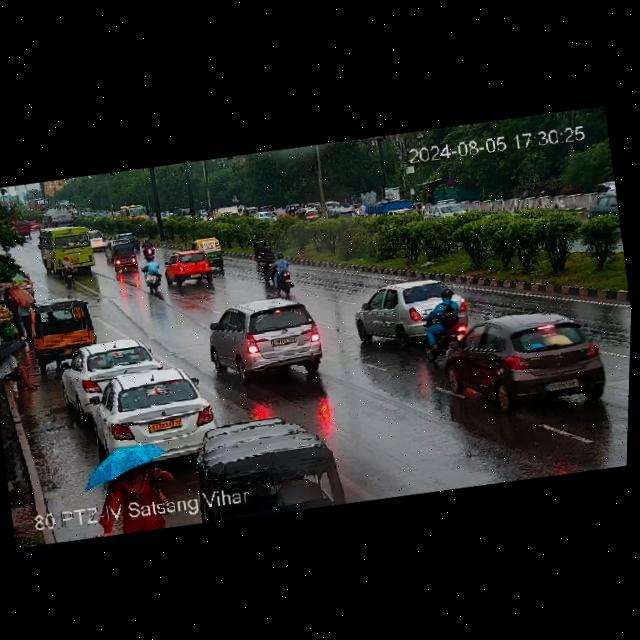bus: (36, 215, 105, 280), (117, 198, 149, 222), (53, 193, 80, 217)
car: (436, 296, 623, 424), (196, 290, 331, 401), (336, 257, 480, 354), (193, 407, 337, 493), (93, 366, 211, 462), (47, 328, 165, 414), (25, 292, 103, 360), (159, 242, 217, 295), (415, 189, 475, 225), (108, 234, 148, 280), (586, 182, 621, 225), (190, 233, 228, 270), (102, 236, 134, 265), (86, 224, 112, 252), (328, 201, 356, 223), (298, 200, 322, 224), (251, 205, 279, 222), (117, 230, 140, 250), (285, 201, 302, 218), (26, 217, 42, 234)
motorcycle: (411, 280, 476, 370), (268, 250, 313, 299), (139, 253, 175, 304), (55, 253, 91, 289), (257, 239, 285, 282), (138, 228, 168, 263), (247, 230, 275, 266), (349, 198, 364, 216)
person: (81, 441, 179, 507), (0, 334, 48, 405), (10, 285, 39, 345)
truck: (360, 184, 422, 220), (41, 205, 75, 231), (211, 201, 239, 222), (30, 192, 52, 210)
